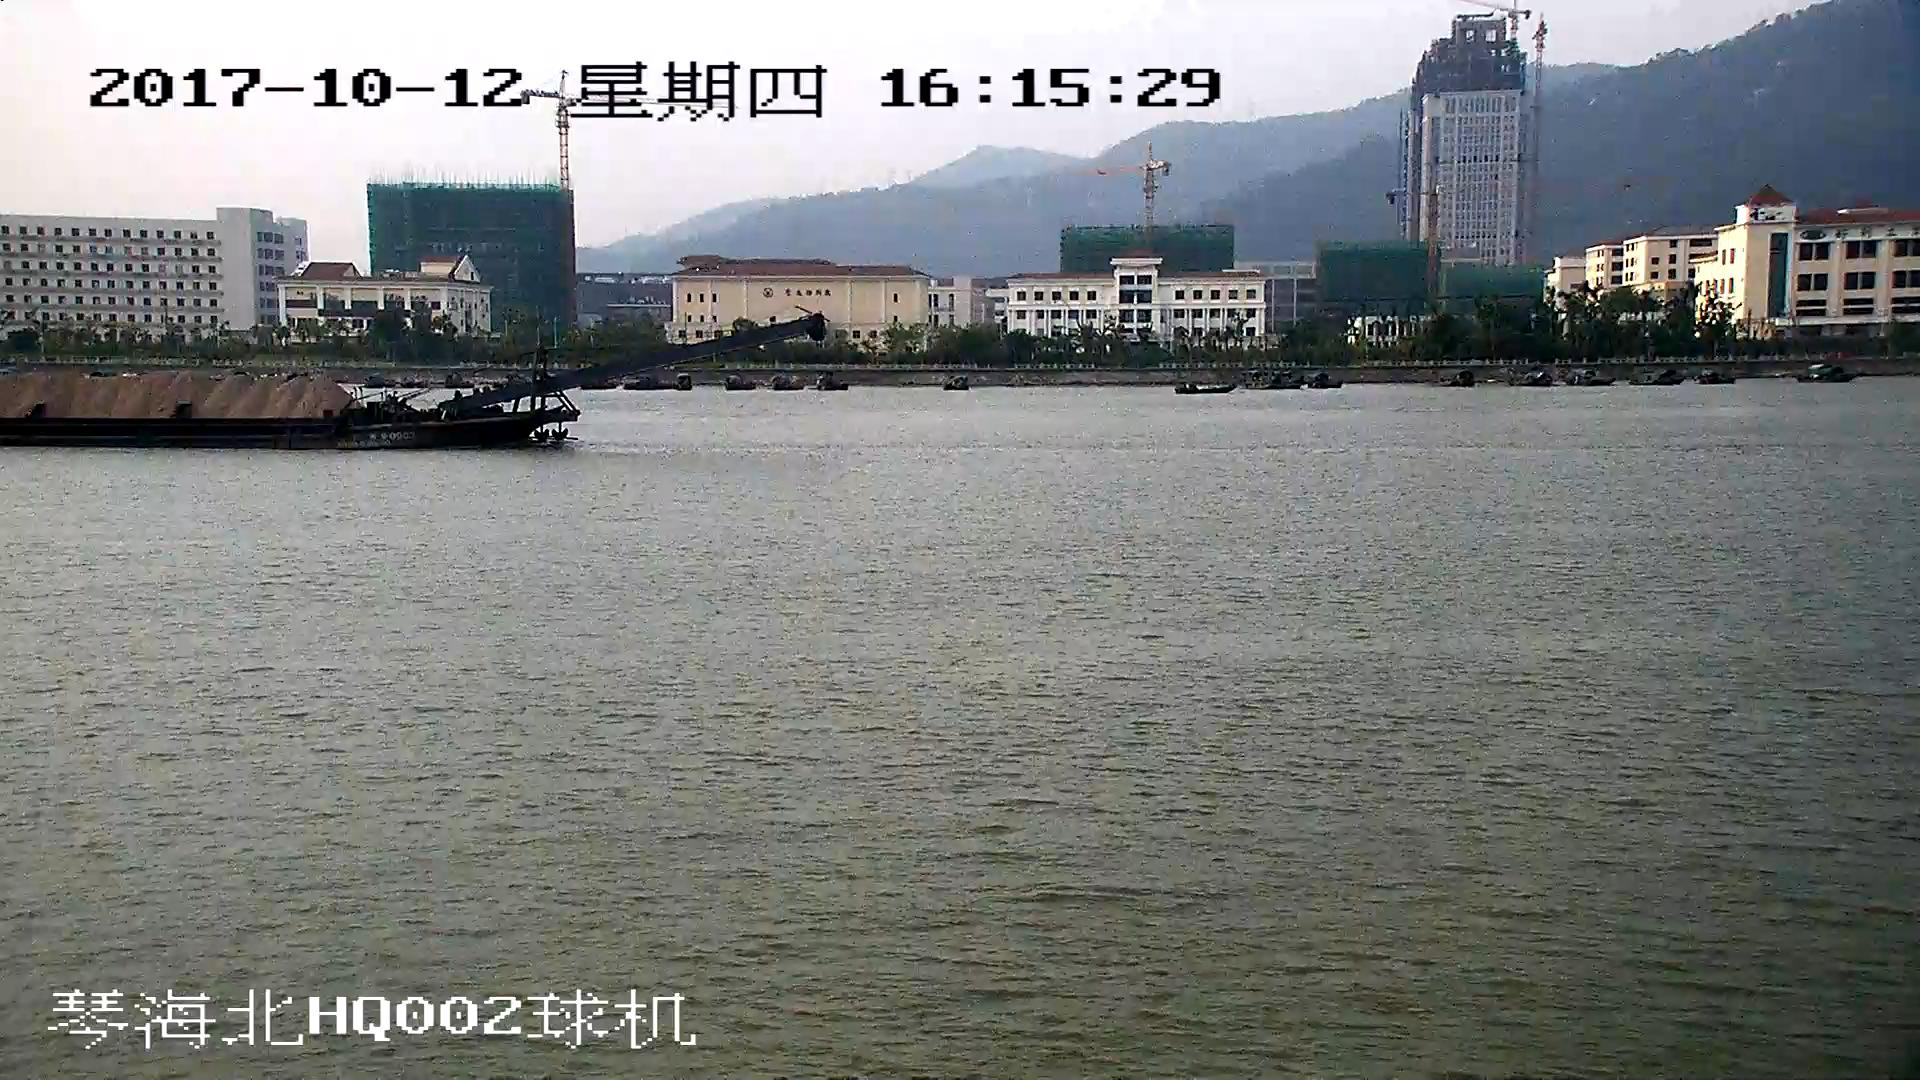ore carrier: (1, 316, 820, 450)
